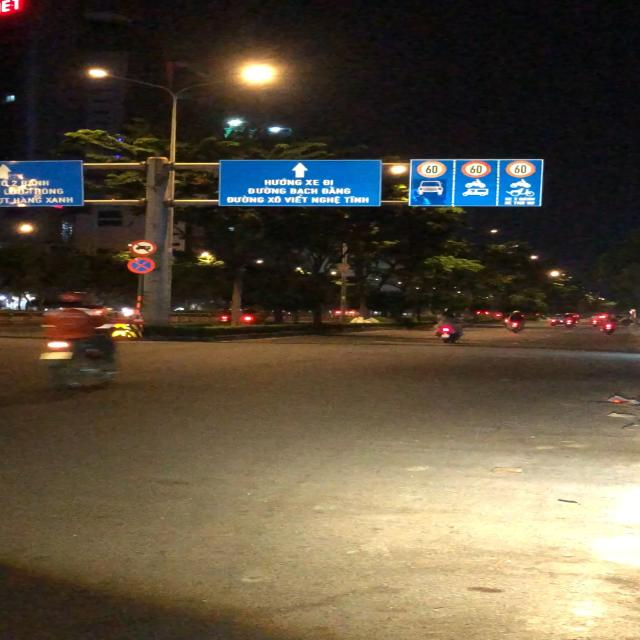Bien bao cam dung xe va do xe: (127, 257, 156, 274)
Bien bao cam xe oto tai: (128, 240, 156, 256)
Bien bao toc do toi da cho phep: (504, 160, 536, 180), (416, 160, 446, 179), (462, 160, 492, 179)
